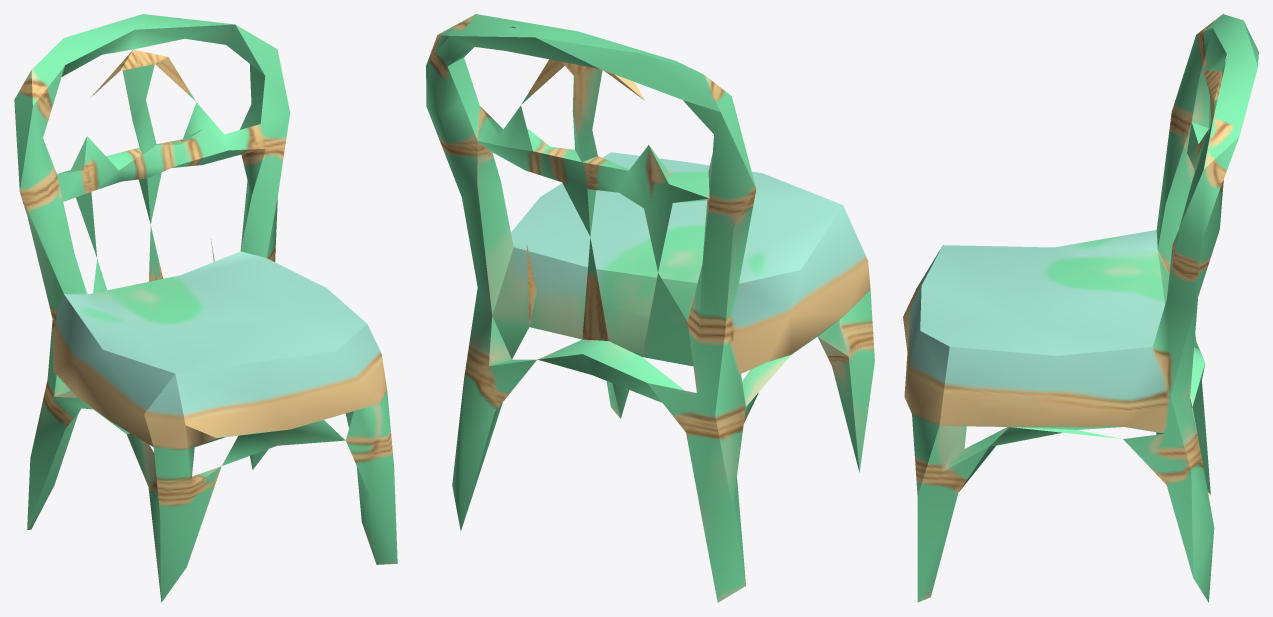
Rendered from seavilla-rattan-dining-chair.glb.
3 renders of one model, left to right at view 1: azimuth 30°, elevation 25°; view 2: azimuth 150°, elevation 25°; view 3: azimuth 270°, elevation 25°, orthographic. The views are drawn at different scales.
Visible parts, largest first — view 1: geometry_0; view 2: geometry_0; view 3: geometry_0.
Boxes of the visible parts, x1,y1,x2,y2 form: geometry_0: (14,14,397,602); geometry_0: (426,14,874,602); geometry_0: (903,14,1258,602).
Size of the model in its own units: 0.6157 by 1 by 0.6458.
1 material, 1 textured.
